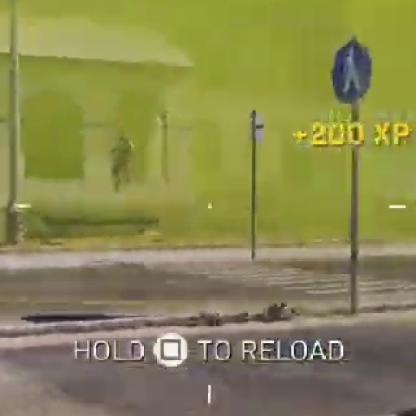enemy: (108, 132, 136, 194)
